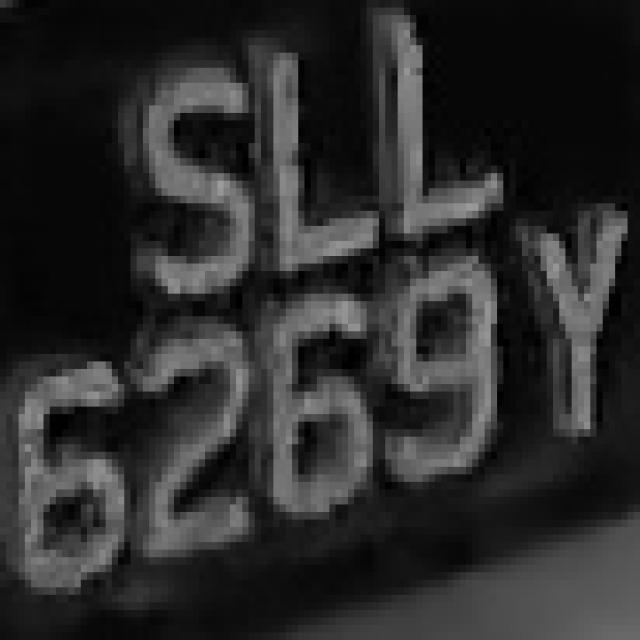2: (124, 308, 261, 564)
6: (6, 331, 137, 595), (261, 271, 379, 550)
9: (373, 248, 503, 497)
L: (242, 38, 386, 286), (373, 15, 509, 264)
S: (106, 30, 261, 294)
Y: (497, 181, 621, 467)
